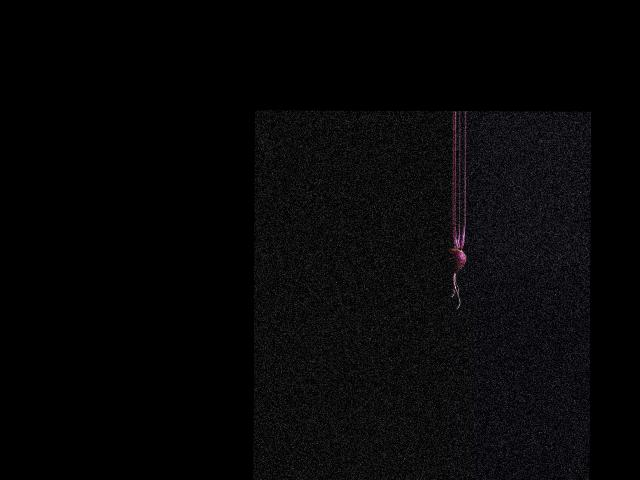beet: (443, 223, 467, 309)
